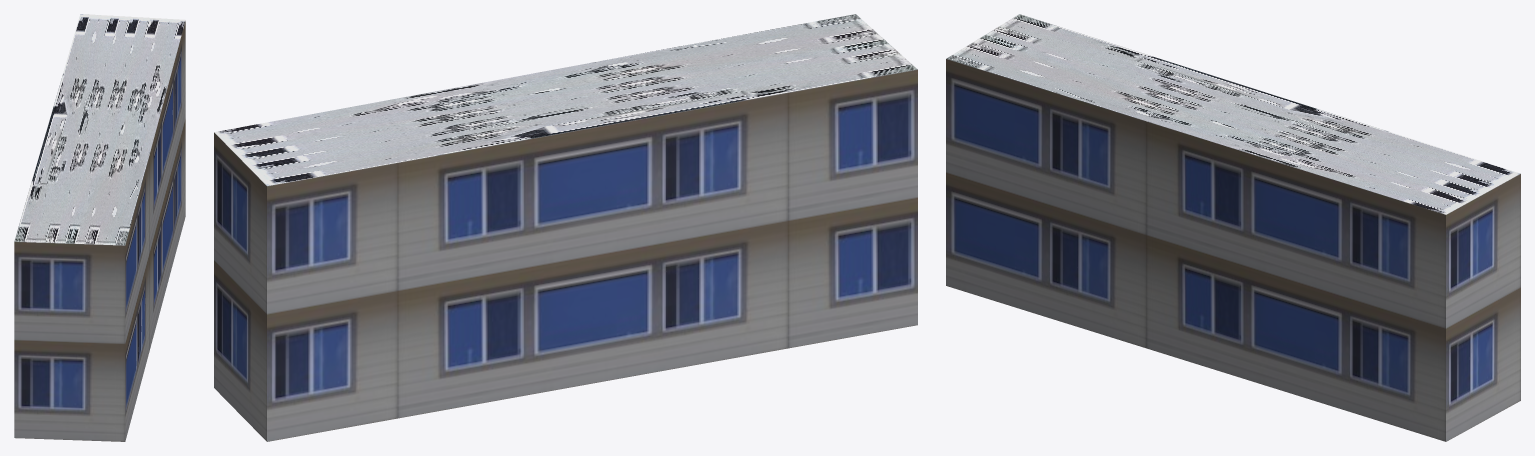
The model's file is ResTex__2017.fbx.
3 views of the same model, side by side, from view 1: azimuth 30°, elevation 25°; view 2: azimuth 150°, elevation 25°; view 3: azimuth 270°, elevation 25° (orthographic). The views are drawn at different scales.
Visible parts, largest first — view 1: CityEngineMaterial_23_m, CityEngineMaterial_8_m; view 2: CityEngineMaterial_23_m, CityEngineMaterial_8_m; view 3: CityEngineMaterial_23_m, CityEngineMaterial_8_m.
Boxes of the visible parts, x1=… form: CityEngineMaterial_23_m: x1=14, y1=21, x2=185, y2=441; CityEngineMaterial_8_m: x1=14, y1=14, x2=185, y2=245; CityEngineMaterial_23_m: x1=214, y1=69, x2=917, y2=441; CityEngineMaterial_8_m: x1=214, y1=14, x2=917, y2=185; CityEngineMaterial_23_m: x1=946, y1=59, x2=1520, y2=441; CityEngineMaterial_8_m: x1=946, y1=14, x2=1520, y2=214.
Size of the model in its own units: 11.38 by 6 by 13.76.
2 materials, 2 textured.
